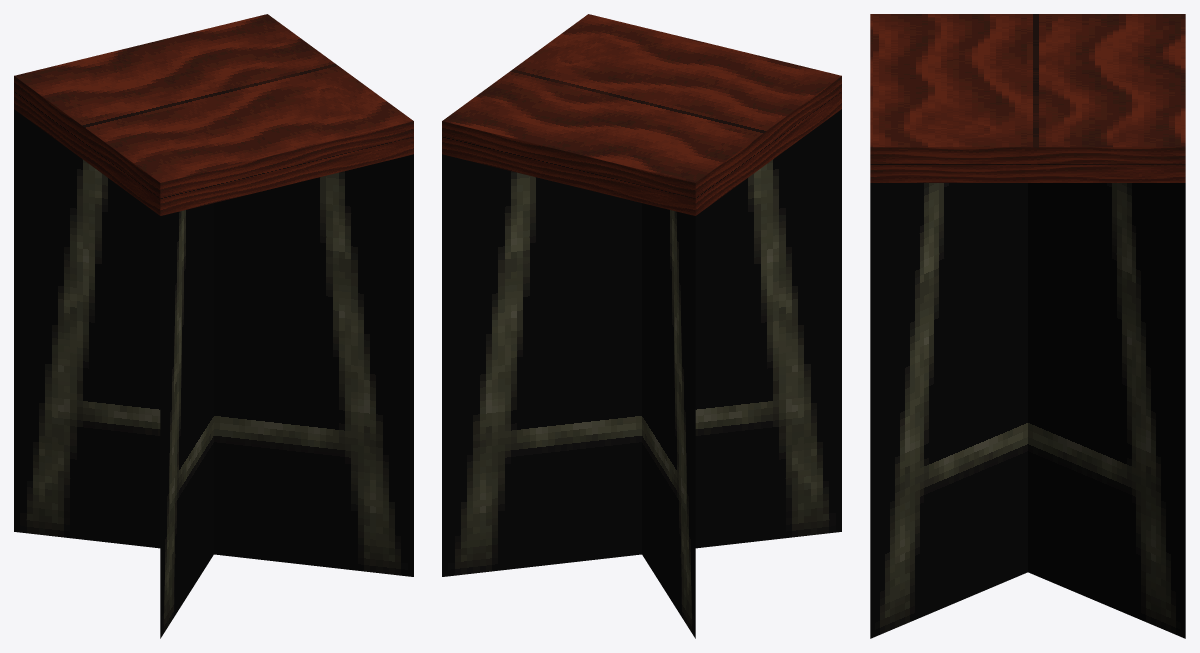
File: prop_stool-1.glb
3 views of the same model, side by side, from view 1: azimuth 30°, elevation 25°; view 2: azimuth 150°, elevation 25°; view 3: azimuth 270°, elevation 25° (orthographic). The views are drawn at different scales.
Visible parts, largest first — view 1: prop_stool-1; view 2: prop_stool-1; view 3: prop_stool-1.
Boxes of the visible parts, left/top/right/bottom form: prop_stool-1: left=14, top=14, right=413, bottom=638; prop_stool-1: left=442, top=14, right=841, bottom=638; prop_stool-1: left=870, top=14, right=1185, bottom=638.
Size of the model in its own units: 0.32 by 0.55 by 0.32.
Materials: 2 (2 with a texture image).
